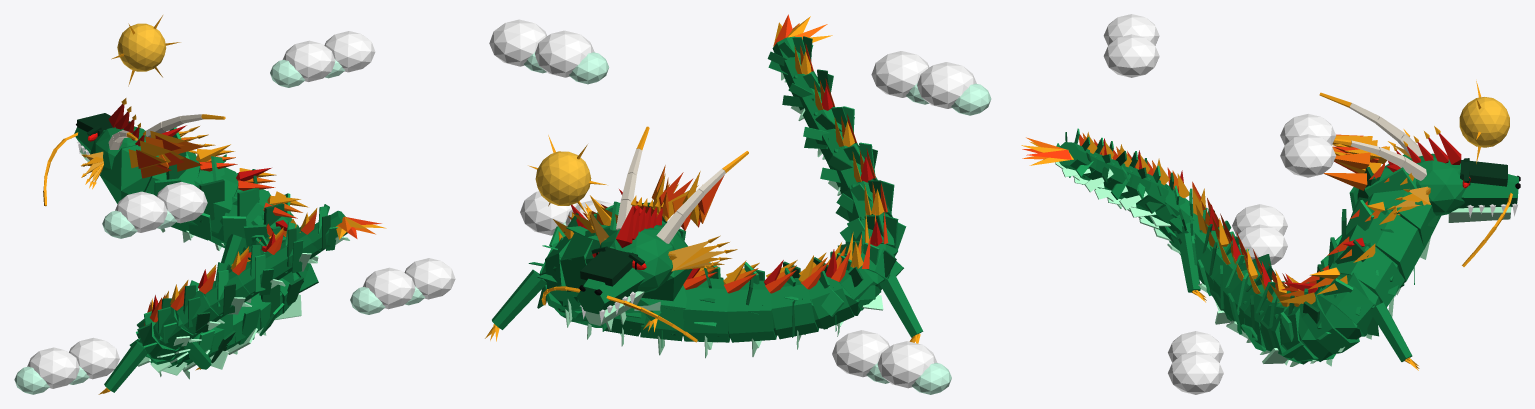
The model's file is longdragon.obj.
3 views of the same model, side by side, from view 1: azimuth 30°, elevation 25°; view 2: azimuth 150°, elevation 25°; view 3: azimuth 270°, elevation 25° (orthographic). The views are drawn at different scales.
Parts seen in each view (by area): view 1: Float3_26_m184, Float1_24_m180, Float4_27_m186, Float2_25_m182, Seg1_1_m1, Seg14_14_m105, Float1_23_m177, Seg3_3_m17, Seg2_2_m9, Seg18_18_m137, Head_21_m161, Seg4_4_m25 (+24 smaller); view 2: Float1_24_m180, Float4_27_m186, Float3_26_m184, Head_21_m161, Seg9_9_m65, Seg10_10_m73, Float1_23_m177, Seg11_11_m81, Head_21_m166, Seg4_4_m25, Float2_25_m182, Seg14_14_m105 (+26 smaller); view 3: Head_21_m161, Float2_25_m182, Float4_27_m186, Float3_26_m184, Seg4_4_m25, Seg2_2_m9, Float1_24_m180, Seg3_3_m17, Float1_23_m177, Seg5_5_m33, Seg1_1_m1, Head_21_m166 (+23 smaller).
Part boxes in pixels (x1,y1,x2,y2): Float3_26_m184: (115,182,207,232); Float1_24_m180: (27,337,119,388); Float4_27_m186: (282,31,375,81); Float2_25_m182: (363,258,455,309); Seg1_1_m1: (100,145,199,226); Seg14_14_m105: (104,322,211,392); Float1_23_m177: (117,23,166,71); Seg3_3_m17: (209,173,269,248); Seg2_2_m9: (172,154,237,240); Seg18_18_m137: (238,245,287,295); Head_21_m161: (74,126,146,173); Seg4_4_m25: (221,191,293,267); Float1_24_m180: (832,330,937,388); Float4_27_m186: (489,19,594,77); Float3_26_m184: (871,51,976,108); Head_21_m161: (577,227,674,314); Seg9_9_m65: (671,277,730,342); Seg10_10_m73: (717,269,776,342); Float1_23_m177: (535,151,591,205); Seg11_11_m81: (762,267,818,339); Head_21_m166: (616,148,725,243); Seg4_4_m25: (492,237,661,329); Float2_25_m182: (520,191,612,235); Seg14_14_m105: (845,240,923,337); Head_21_m161: (1410,153,1518,215); Float2_25_m182: (1168,331,1223,394); Float4_27_m186: (1280,114,1336,177); Float3_26_m184: (1103,14,1159,77); Seg4_4_m25: (1315,272,1412,361); Seg2_2_m9: (1337,207,1424,284); Float1_24_m180: (1232,204,1287,265); Seg3_3_m17: (1328,237,1404,307); Float1_23_m177: (1459,97,1509,147); Seg5_5_m33: (1299,282,1361,354); Seg1_1_m1: (1349,154,1440,248); Head_21_m166: (1349,103,1426,180).
Size of the model in its own units: 6.1 by 3.93 by 6.24.
